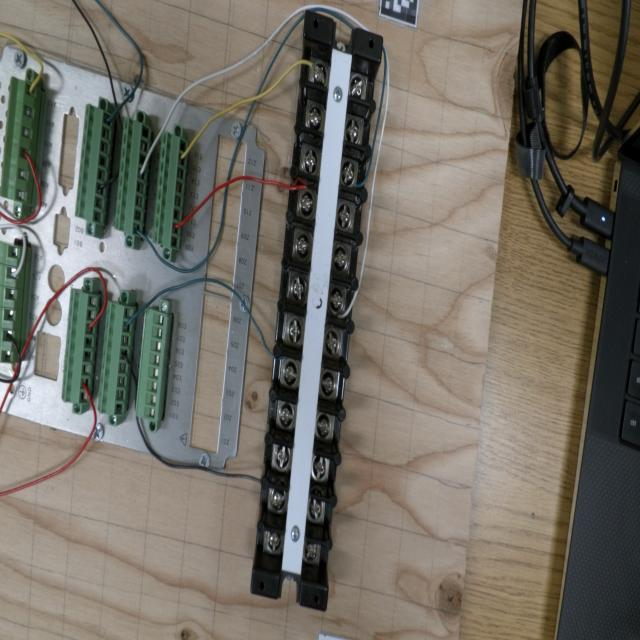Phillips_Block: (250, 10, 385, 611)
Terminal_1: (0, 76, 40, 204)
Terminal_2: (74, 103, 115, 226), (114, 117, 152, 238), (152, 131, 189, 251), (61, 289, 99, 404), (97, 300, 134, 416)
